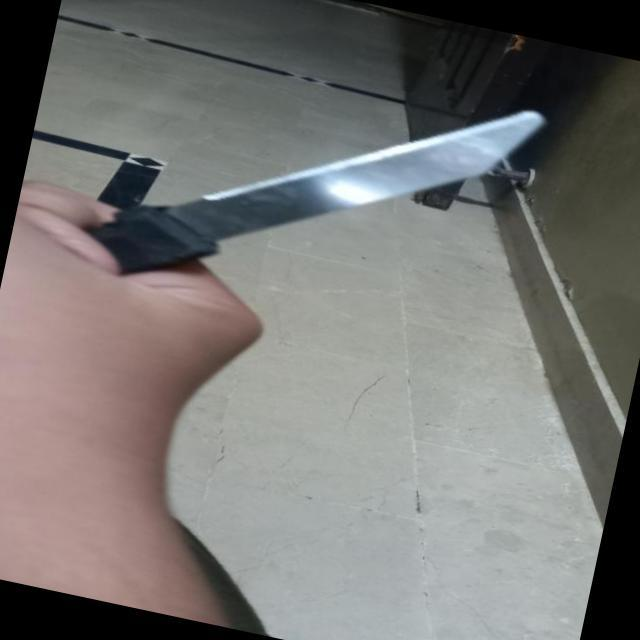Knife: (54, 18, 548, 373)
